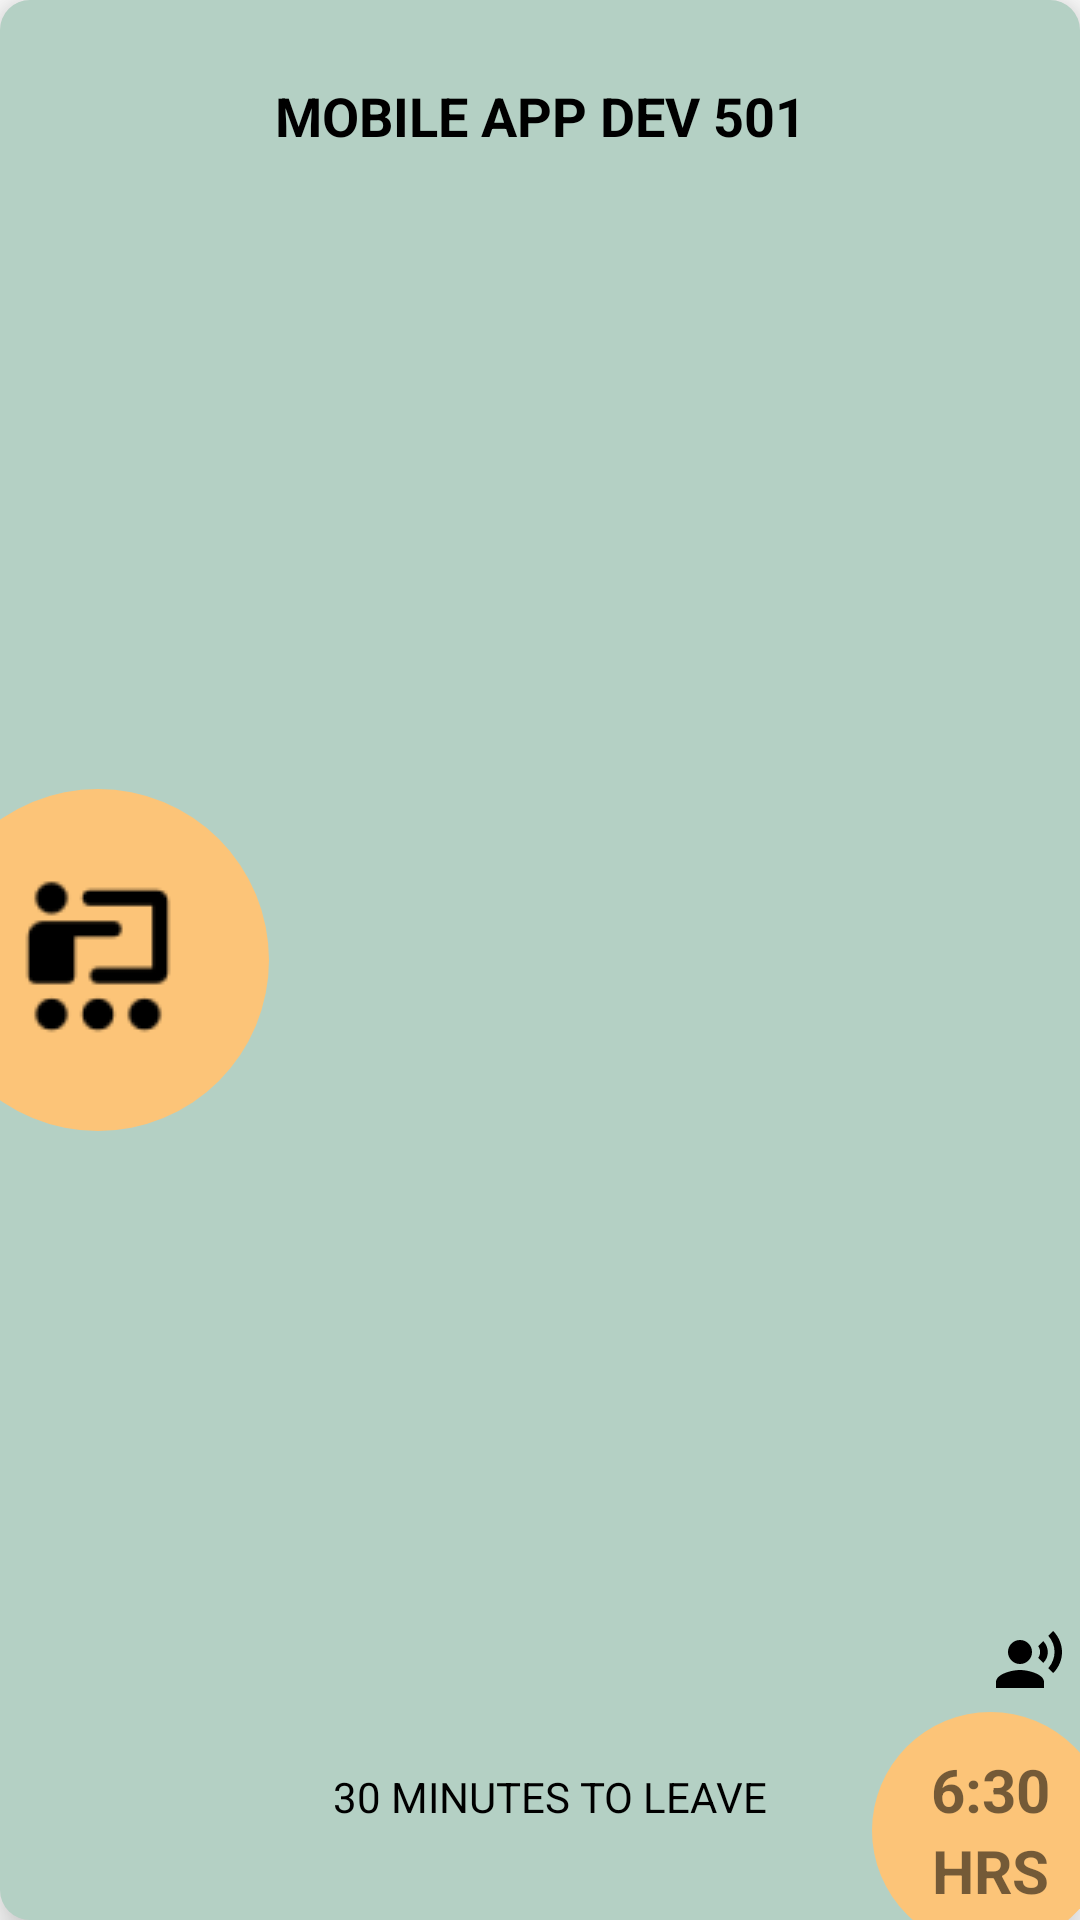

Icon bounding boxes for this 1080px x 1920px phone screenshot, format BBox(x1, y1, x2, y2):
lecture: BBox(26, 881, 170, 1032)
sound: BBox(996, 1631, 1062, 1688)
